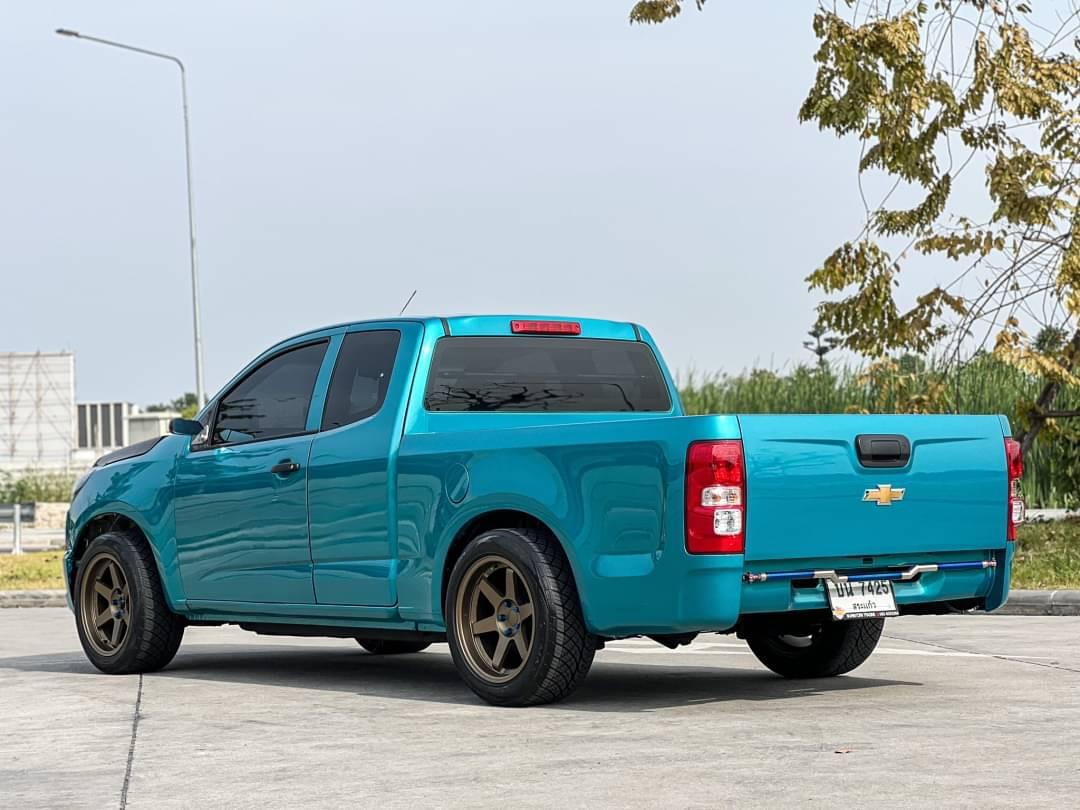license-plate: (822, 574, 903, 622)
